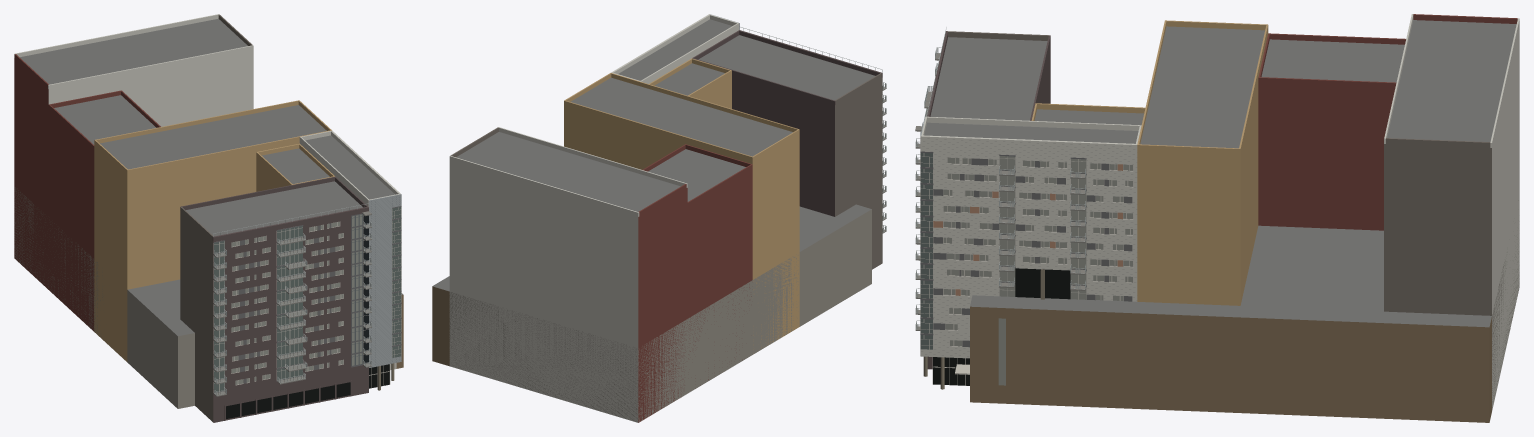
The model's file is 2400-nueces-look.glb.
The picture shows the model from 3 angles, left to right: view 1: azimuth 30°, elevation 25°; view 2: azimuth 150°, elevation 25°; view 3: azimuth 270°, elevation 25°; orthographic projection. The views are drawn at different scales.
Parts seen in each view (by area): view 1: n_roof, n_wall_plain_inferred_tan, n_wall_maroon_tile, n_wall_plain_inferred_red, n_wall_white_panel, n_podium_plain_inferred, n_wall_plain_inferred_grey, n_glass_bay, n_glass_window, n_wall_silver_shingle, n_frame_aluminium, n_metal_rail (+6 smaller); view 2: n_wall_white_panel, n_roof, n_podium_plain_inferred, n_wall_plain_inferred_red, n_wall_plain_inferred_tan, n_wall_maroon_tile, n_wall_plain_inferred_grey, n_stone_limestone, n_metal_rail; view 3: n_roof, n_stone_limestone, n_wall_white_panel, n_wall_plain_inferred_tan, n_wall_plain_inferred_red, n_wall_plain_inferred_grey, n_glass_window, n_frame_aluminium, n_glass_lobby, n_glass_bay, n_panel_grey, n_joint_white_panel (+5 smaller).
Boxes of the visible parts, left/top/right/bottom form: n_roof: left=20, top=18, right=403, bottom=335; n_wall_plain_inferred_tan: left=94, top=100, right=334, bottom=361; n_wall_maroon_tile: left=180, top=176, right=368, bottom=422; n_wall_plain_inferred_red: left=14, top=54, right=160, bottom=331; n_wall_white_panel: left=14, top=14, right=400, bottom=206; n_podium_plain_inferred: left=14, top=187, right=194, bottom=408; n_wall_plain_inferred_grey: left=180, top=14, right=252, bottom=422; n_glass_bay: left=214, top=207, right=401, bottom=392; n_glass_window: left=231, top=214, right=362, bottom=384; n_wall_silver_shingle: left=369, top=194, right=401, bottom=367; n_frame_aluminium: left=213, top=207, right=401, bottom=392; n_metal_rail: left=213, top=203, right=371, bottom=395; n_wall_white_panel: left=449, top=14, right=738, bottom=422; n_roof: left=432, top=19, right=875, bottom=291; n_podium_plain_inferred: left=449, top=209, right=871, bottom=422; n_wall_plain_inferred_red: left=638, top=144, right=752, bottom=422; n_wall_plain_inferred_tan: left=564, top=58, right=799, bottom=349; n_wall_maroon_tile: left=692, top=30, right=882, bottom=216; n_wall_plain_inferred_grey: left=450, top=73, right=882, bottom=269; n_stone_limestone: left=432, top=286, right=449, bottom=366; n_metal_rail: left=739, top=26, right=886, bottom=232; n_roof: left=924, top=20, right=1516, bottom=327; n_stone_limestone: left=970, top=306, right=1491, bottom=422; n_wall_white_panel: left=920, top=14, right=1519, bottom=410; n_wall_plain_inferred_tan: left=1031, top=20, right=1268, bottom=305; n_wall_plain_inferred_red: left=1258, top=14, right=1517, bottom=230; n_wall_plain_inferred_grey: left=948, top=31, right=1491, bottom=315; n_glass_window: left=943, top=156, right=1132, bottom=385; n_frame_aluminium: left=920, top=151, right=1133, bottom=385; n_glass_lobby: left=933, top=268, right=1070, bottom=385; n_glass_bay: left=920, top=153, right=932, bottom=349; n_panel_grey: left=933, top=158, right=1132, bottom=347; n_joint_white_panel: left=920, top=138, right=1136, bottom=356.
Bounding box in the file's own units: 64.18 × 51.4 × 105.
